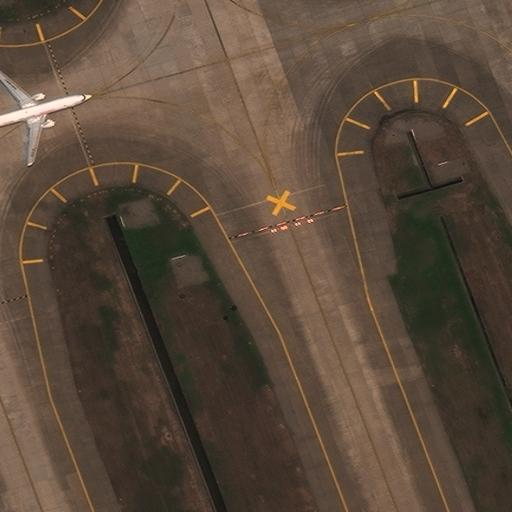Medium Civil Transport: (0, 68, 91, 163)
